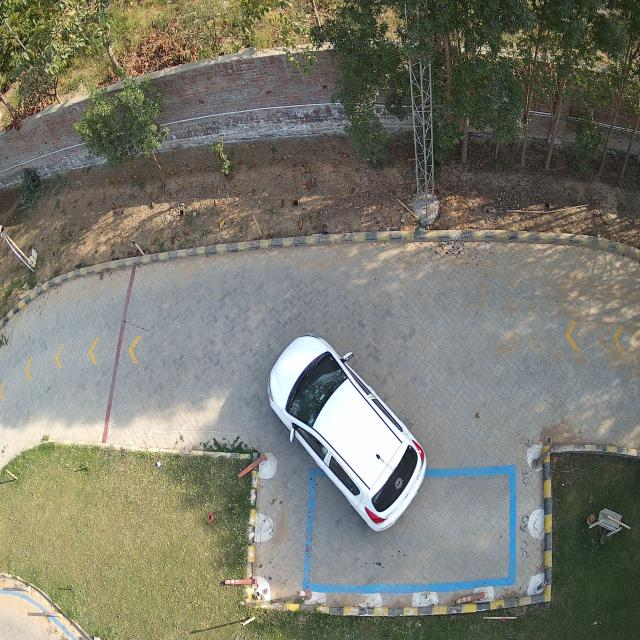car: (266, 335, 426, 532)
